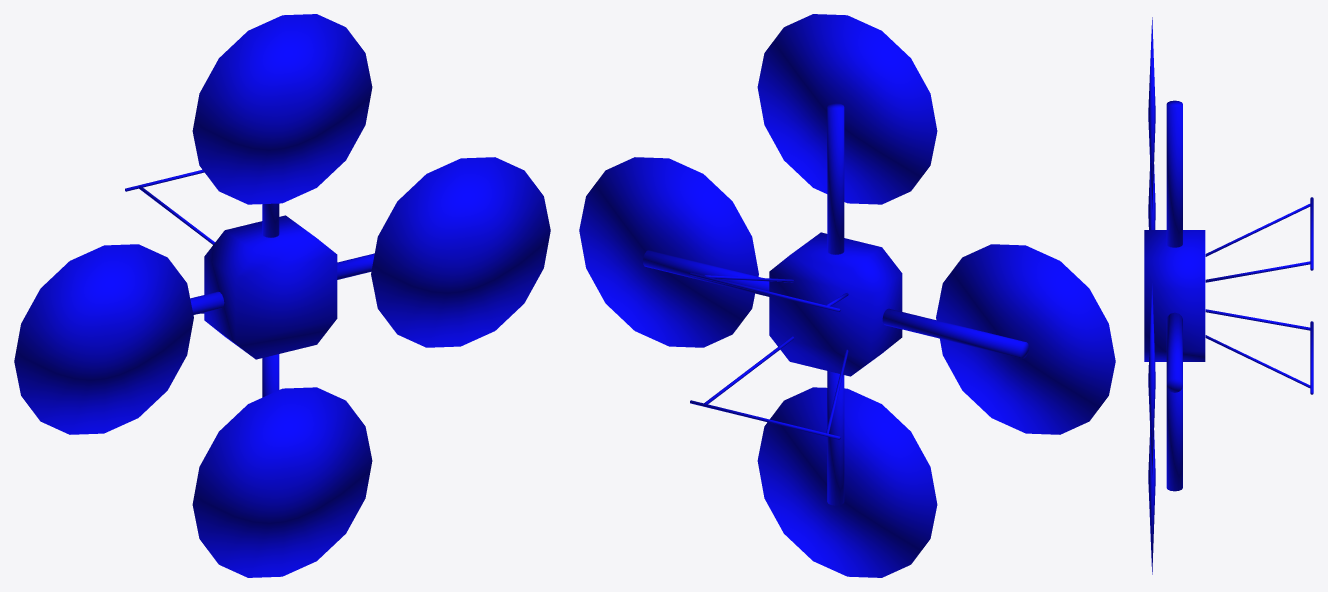
Rendered from quadrotor_base.obj.
3 views of the same model, side by side, from view 1: azimuth 30°, elevation 25°; view 2: azimuth 150°, elevation 25°; view 3: azimuth 270°, elevation 25° (orthographic). The views are drawn at different scales.
Size of the model in its own units: 5.92 by 5.92 by 1.67.
